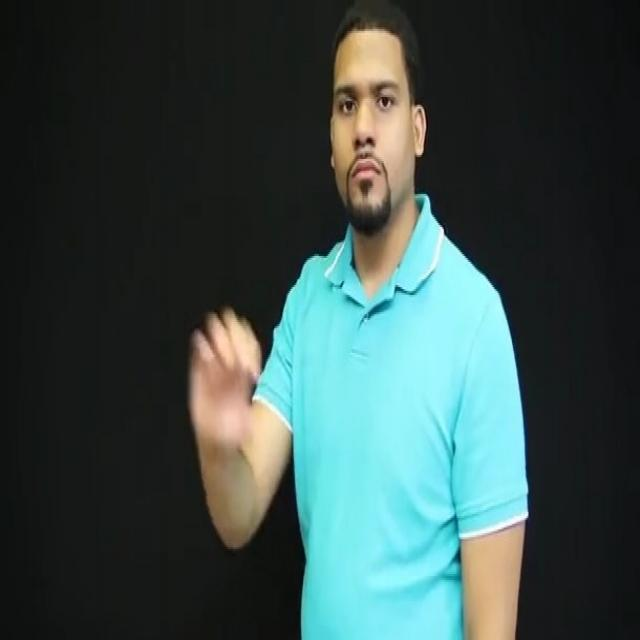pepper: (188, 316, 268, 454)
